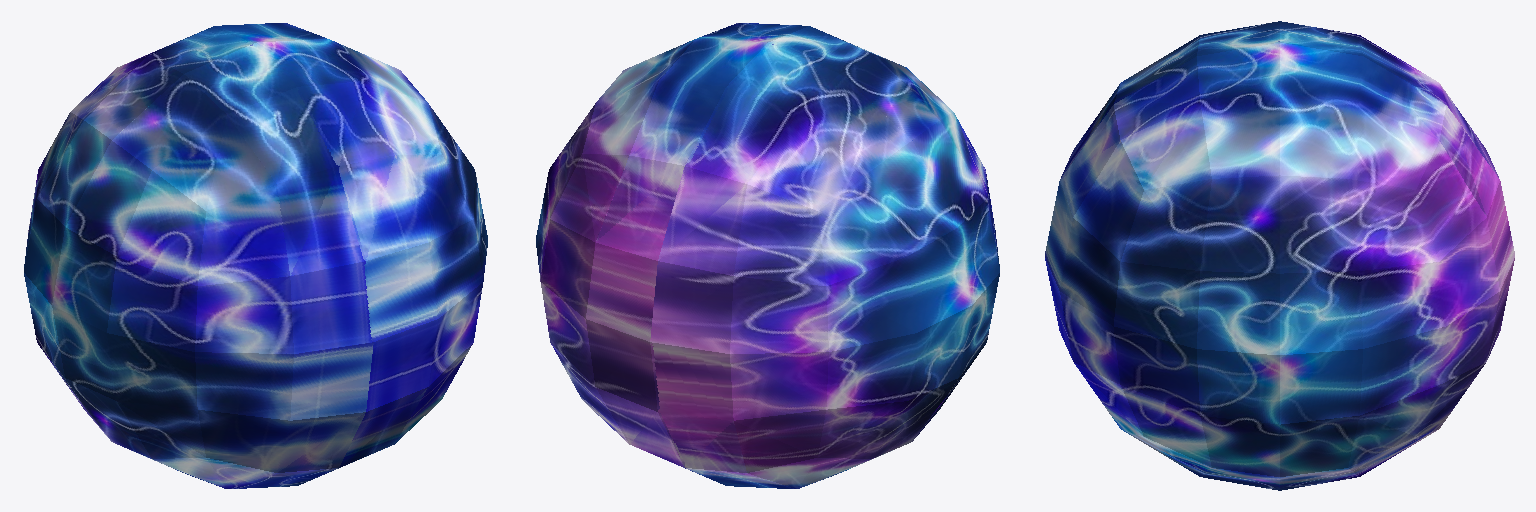
The picture shows the model from 3 angles: view 1: azimuth 30°, elevation 25°; view 2: azimuth 150°, elevation 25°; view 3: azimuth 270°, elevation 25°; orthographic projection.
Parts seen in each view (by area): view 1: Laserpoint_Roundcube.001; view 2: Laserpoint_Roundcube.001; view 3: Laserpoint_Roundcube.001.
Boxes of the visible parts, x1=… form: Laserpoint_Roundcube.001: x1=24, y1=23, x2=487, y2=488; Laserpoint_Roundcube.001: x1=536, y1=23, x2=999, y2=488; Laserpoint_Roundcube.001: x1=1045, y1=21, x2=1514, y2=490.
Size of the model in its own units: 0.0985 by 0.0985 by 0.0985.
1 materials, 1 textured.